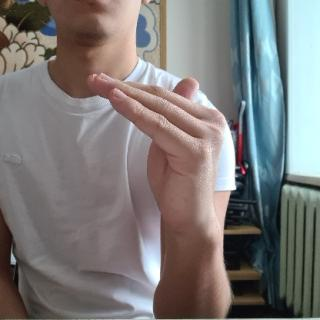KHAA: (80, 64, 226, 225)
